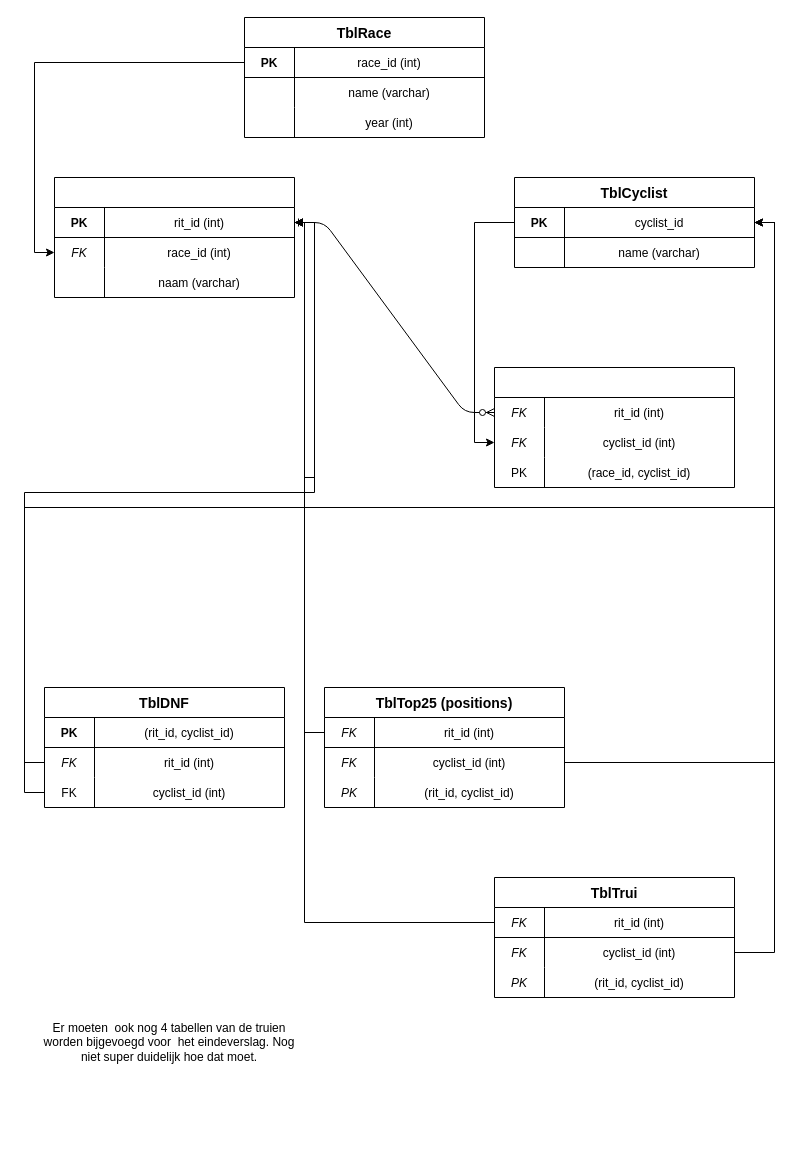
The diagram is 800 pixels wide and 1155 high, and some of its shapes have lost their labels. The box of each missing label's shape, as (x1, y1, x2, y2) in pixels:
TblRaceCyclist: (494, 366, 734, 488)
TblRit: (54, 176, 294, 298)
